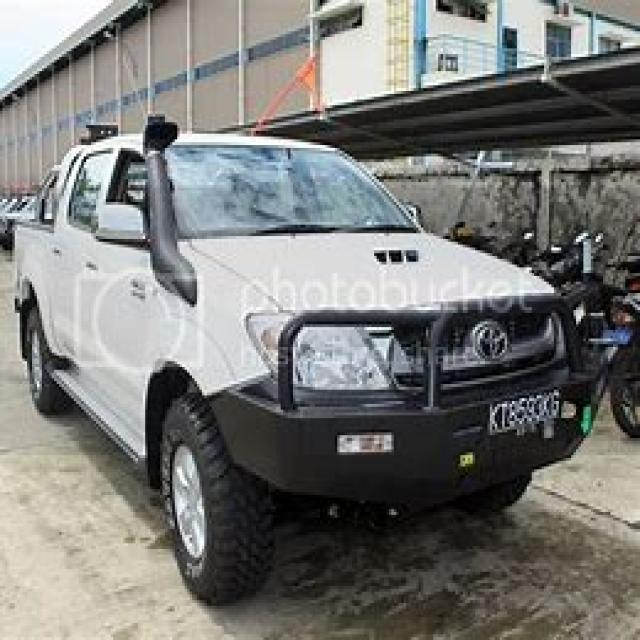light_vehicle: (10, 122, 605, 600)
